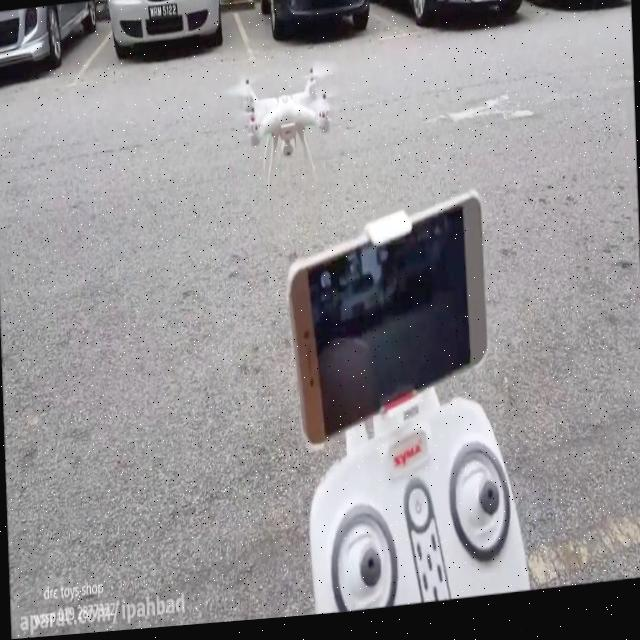drone: (220, 54, 348, 205)
